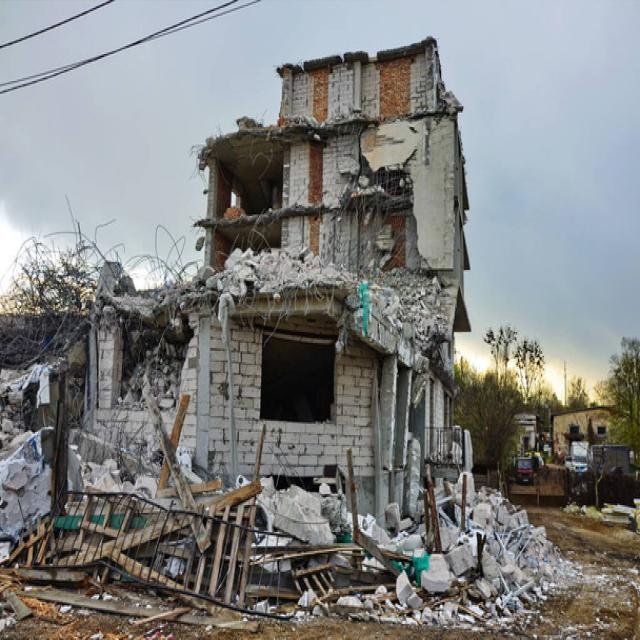Destroyed_building: (3, 0, 609, 640)
